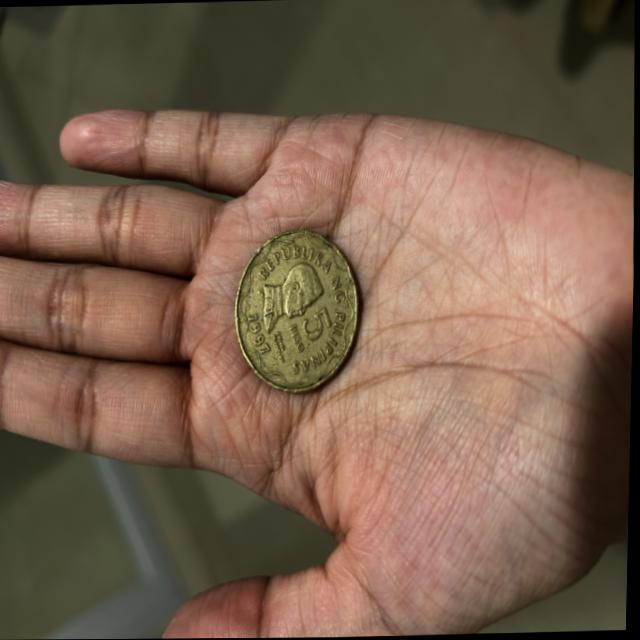5_Old_Front: (290, 303, 337, 362)
